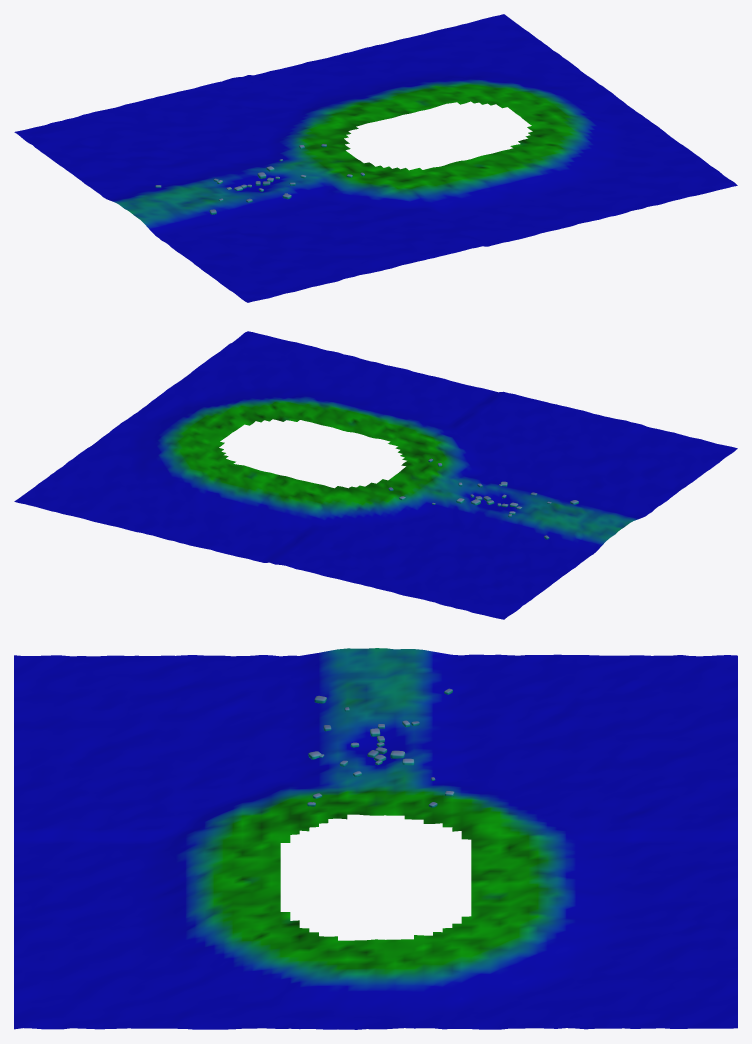
Rendered from shrine_islet.glb.
The picture shows the model from 3 angles, top to bottom: view 1: azimuth 30°, elevation 25°; view 2: azimuth 150°, elevation 25°; view 3: azimuth 270°, elevation 25°; orthographic projection. The views are drawn at different scales.
Visible parts, largest first — view 1: shrine_islet; view 2: shrine_islet; view 3: shrine_islet.
Boxes of the visible parts, x1,y1,x2,y2 form: shrine_islet: (14, 14, 737, 302); shrine_islet: (14, 331, 737, 619); shrine_islet: (14, 648, 737, 1029).
Size of what is drawn, in the model's own units: 82.8 by 1.74 by 68.4.
